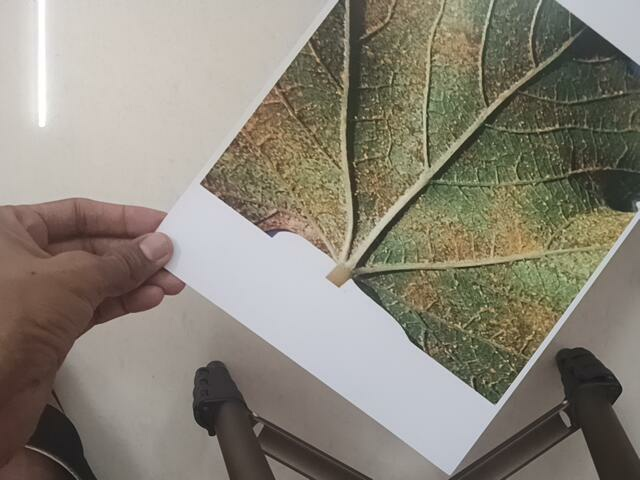Grape_Rust_Fungus: (220, 4, 619, 379)
